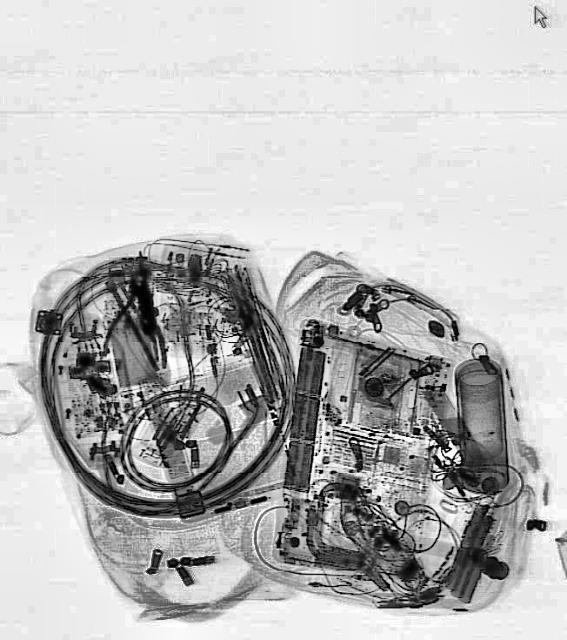Pliers: (102, 264, 172, 368)
